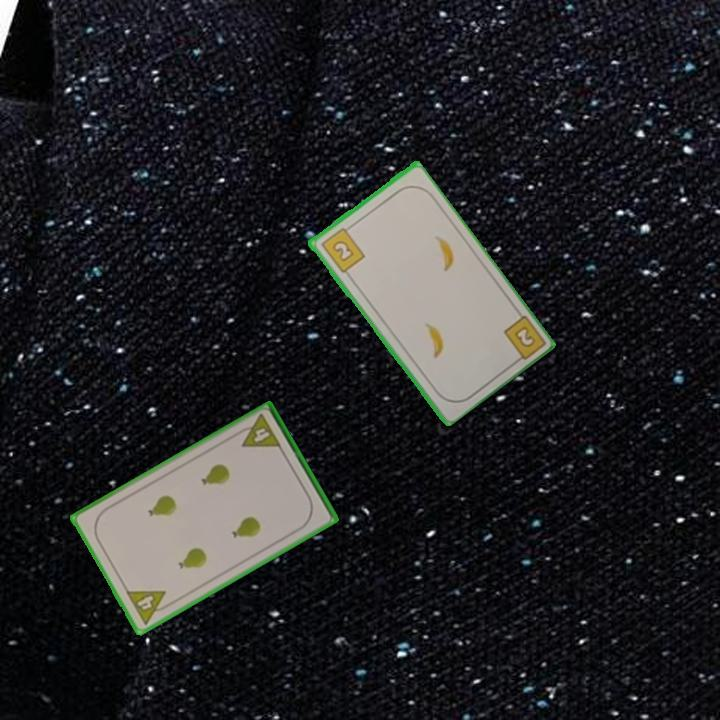2b: (317, 222, 367, 276), (499, 311, 546, 367)
4p: (122, 587, 175, 627), (233, 411, 284, 451)
